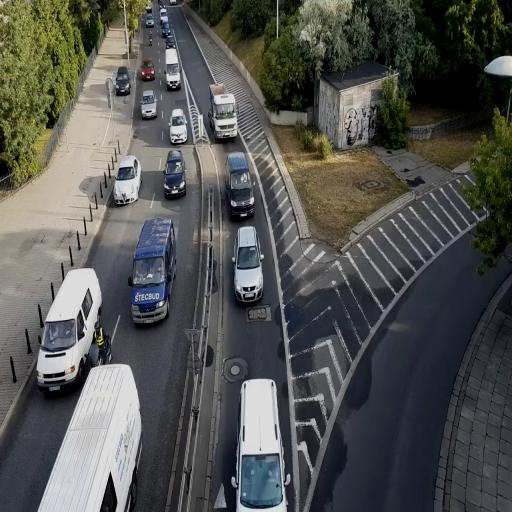vehicle: (36, 360, 144, 511), (36, 360, 143, 510), (36, 266, 104, 394), (36, 267, 104, 393), (235, 377, 287, 510), (130, 215, 178, 325), (233, 226, 263, 304), (227, 152, 256, 220), (113, 155, 142, 206), (164, 150, 186, 198), (164, 46, 182, 90), (170, 108, 188, 144), (140, 91, 158, 119), (114, 68, 131, 96), (139, 58, 155, 82)
